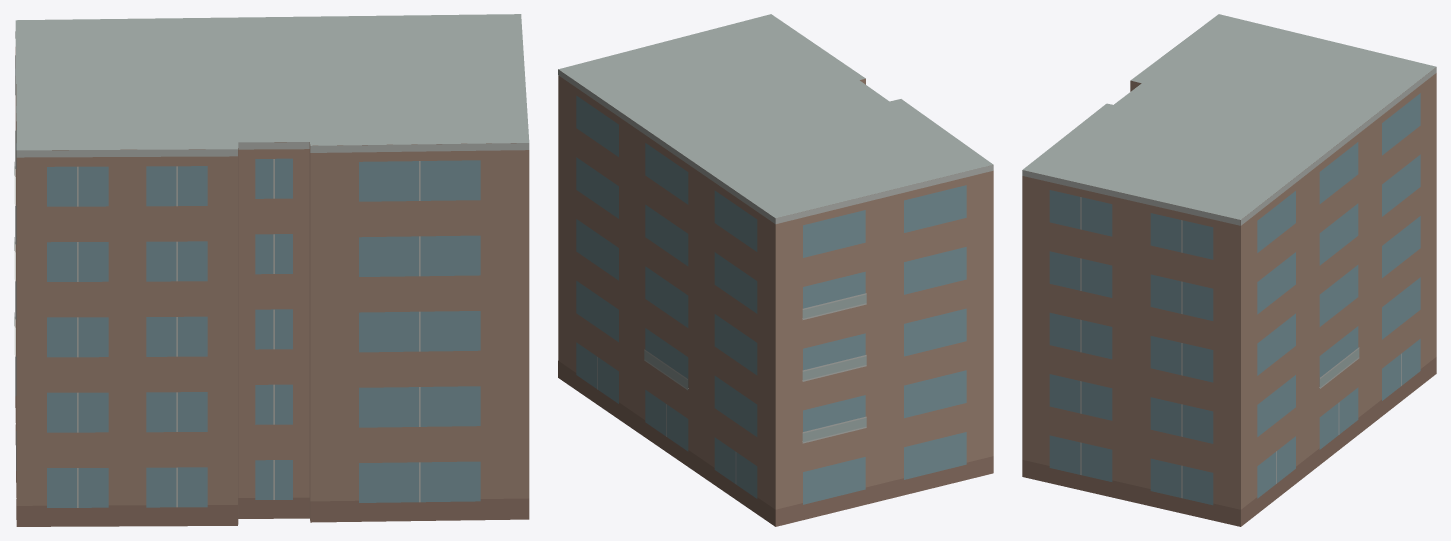
File: survey-upis-32682619.glb
The picture shows the model from 3 angles, left to right: view 1: azimuth 30°, elevation 25°; view 2: azimuth 150°, elevation 25°; view 3: azimuth 270°, elevation 25°; orthographic projection. The views are drawn at different scales.
Visible parts, largest first — view 1: survey-upis-32682619.tmp; view 2: survey-upis-32682619.tmp; view 3: survey-upis-32682619.tmp.
Part boxes in pixels (box(x1,y1,x2,y2)): survey-upis-32682619.tmp: box(14, 14, 529, 526); survey-upis-32682619.tmp: box(558, 14, 993, 526); survey-upis-32682619.tmp: box(1022, 14, 1436, 526).
Size of the model in its own units: 18.29 by 12.7 by 15.55.
